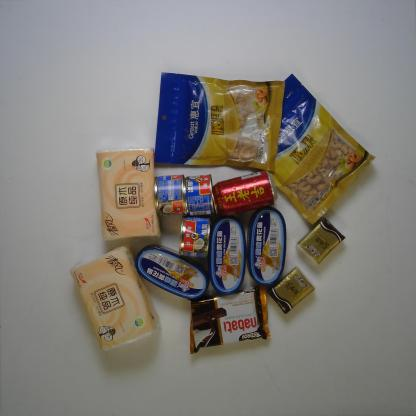Canned Food: (134, 246, 212, 301), (245, 208, 288, 286), (207, 217, 247, 296), (176, 213, 216, 262), (152, 173, 190, 217), (179, 174, 217, 217)
Dessert: (188, 289, 272, 357)
Dried Fruit: (247, 74, 375, 226), (152, 69, 287, 174)
Drink: (211, 169, 281, 218)
Tissue: (66, 244, 162, 356), (95, 144, 162, 242), (294, 215, 347, 264), (267, 266, 315, 315)
